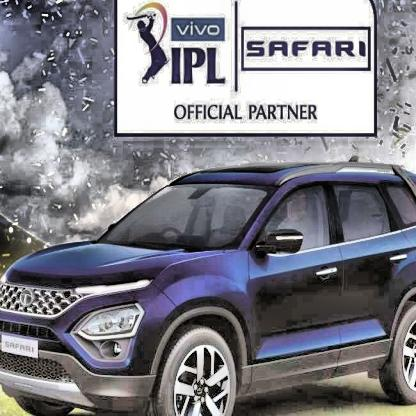IPL: (126, 0, 169, 85), (170, 47, 226, 86)
TATA Safari: (246, 30, 369, 67), (3, 339, 38, 358)
Vivo: (173, 19, 224, 39)
